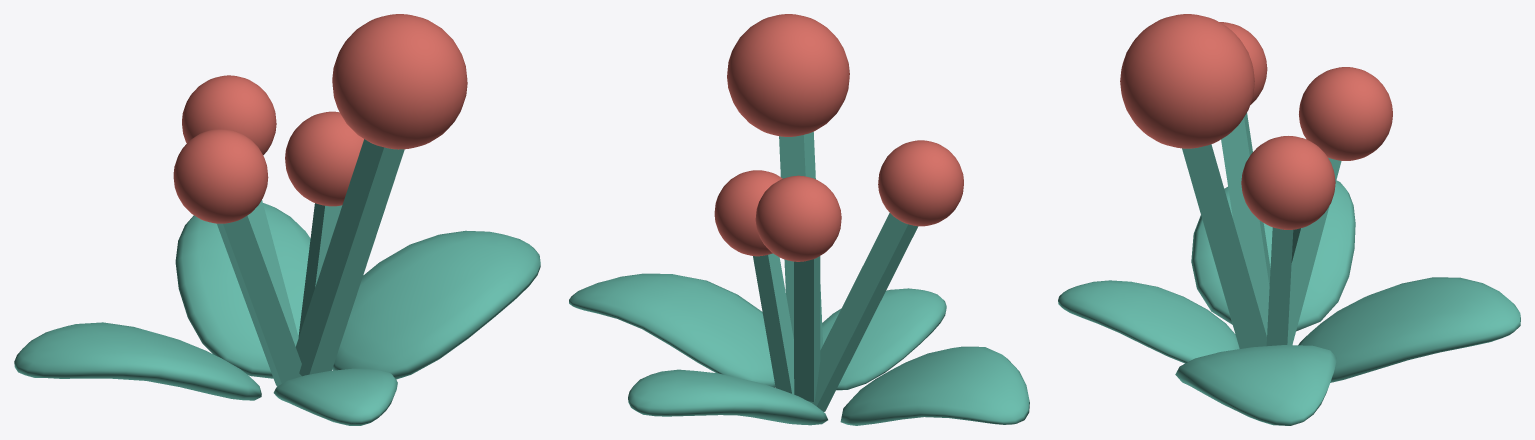
The model's file is plant.fbx.
3 views of the same model, side by side, from view 1: azimuth 30°, elevation 25°; view 2: azimuth 150°, elevation 25°; view 3: azimuth 270°, elevation 25° (orthographic). The views are drawn at different scales.
Visible parts, largest first — view 1: Cube.008, Sphere, Cube.002, Sphere.003, Sphere.002, Cube.001, Sphere.001, Cube, Cube.003; view 2: Cube.008, Sphere, Cube.001, Sphere.003, Sphere.001, Cube.003, Sphere.002, Cube, Cube.002; view 3: Cube.008, Sphere, Sphere.002, Sphere.001, Cube.002, Cube.001, Cube, Cube.003, Sphere.003.
Boxes of the visible parts, bbox=[...] form: Cube.008: bbox=[14, 203, 540, 425]; Sphere: bbox=[332, 14, 467, 149]; Cube.002: bbox=[296, 139, 404, 376]; Sphere.003: bbox=[173, 129, 268, 223]; Sphere.002: bbox=[285, 111, 363, 206]; Cube.001: bbox=[217, 215, 301, 386]; Sphere.001: bbox=[182, 75, 276, 155]; Cube: bbox=[298, 203, 342, 337]; Cube.003: bbox=[247, 200, 298, 346]; Cube.008: bbox=[569, 273, 1029, 425]; Sphere: bbox=[727, 14, 849, 136]; Cube.001: bbox=[808, 213, 918, 411]; Sphere.003: bbox=[878, 140, 963, 226]; Sphere.001: bbox=[755, 175, 841, 261]; Cube.003: bbox=[794, 256, 820, 401]; Sphere.002: bbox=[714, 170, 782, 256]; Cube: bbox=[753, 253, 794, 394]; Cube.002: bbox=[779, 132, 822, 349]; Cube.008: bbox=[1058, 180, 1520, 425]; Sphere: bbox=[1120, 14, 1254, 148]; Sphere.002: bbox=[1241, 136, 1335, 229]; Sphere.001: bbox=[1299, 67, 1392, 160]; Cube.002: bbox=[1182, 144, 1266, 348]; Cube.001: bbox=[1221, 113, 1270, 336]; Cube: bbox=[1266, 227, 1293, 345]; Cube.003: bbox=[1287, 157, 1341, 344]; Sphere.003: bbox=[1219, 22, 1267, 104].
Bounding box in the file's own units: 67.29 × 48.96 × 53.45.
